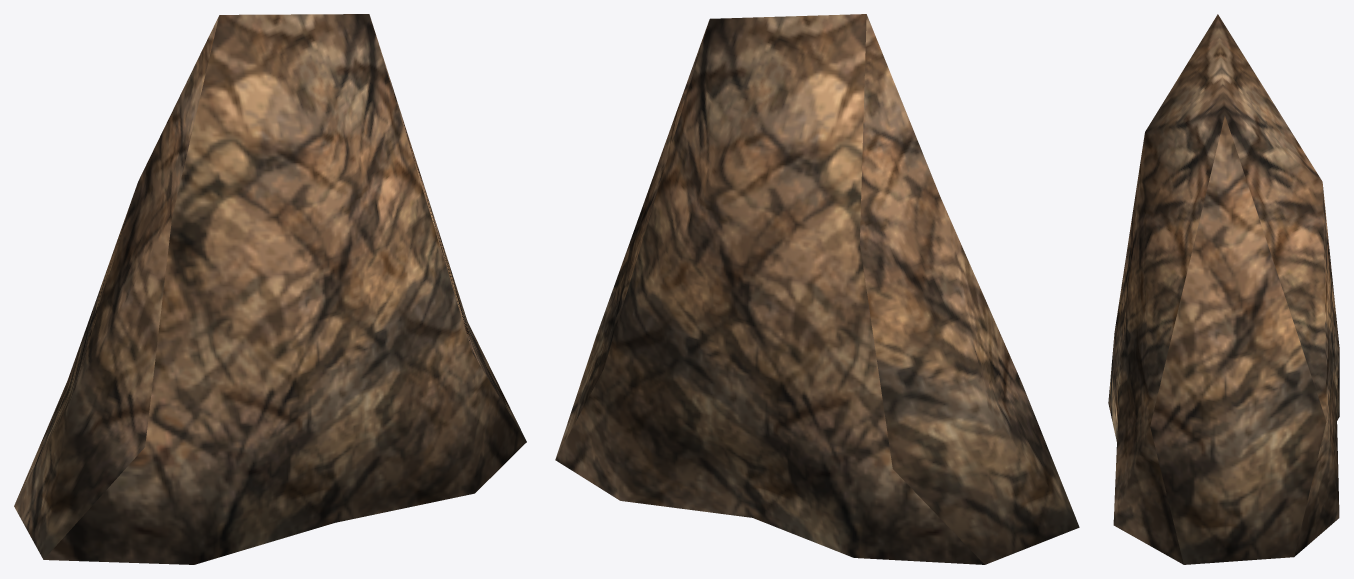
The model's file is RockWall1.fbx.
3 renders of one model, left to right at view 1: azimuth 30°, elevation 25°; view 2: azimuth 150°, elevation 25°; view 3: azimuth 270°, elevation 25°, orthographic. The views are drawn at different scales.
Visible parts, largest first — view 1: Icosphere.002; view 2: Icosphere.002; view 3: Icosphere.002.
Part boxes in pixels (bbox=[...]): Icosphere.002: bbox=[14, 14, 526, 564]; Icosphere.002: bbox=[555, 14, 1079, 564]; Icosphere.002: bbox=[1108, 14, 1339, 564].
Size of the model in its own units: 242 by 232 by 114.
